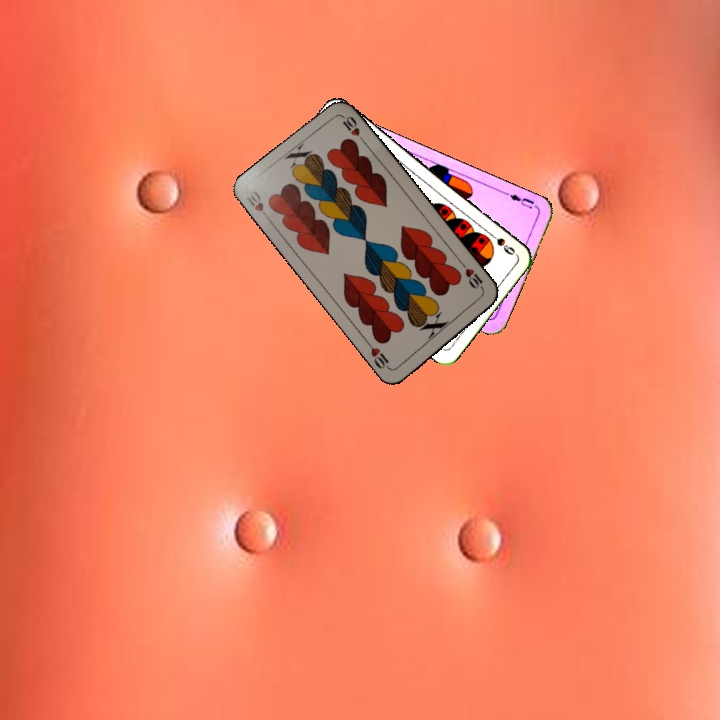EU: (501, 188, 539, 211)
H10: (242, 185, 273, 224), (457, 259, 487, 294)
S9: (484, 228, 518, 258)
